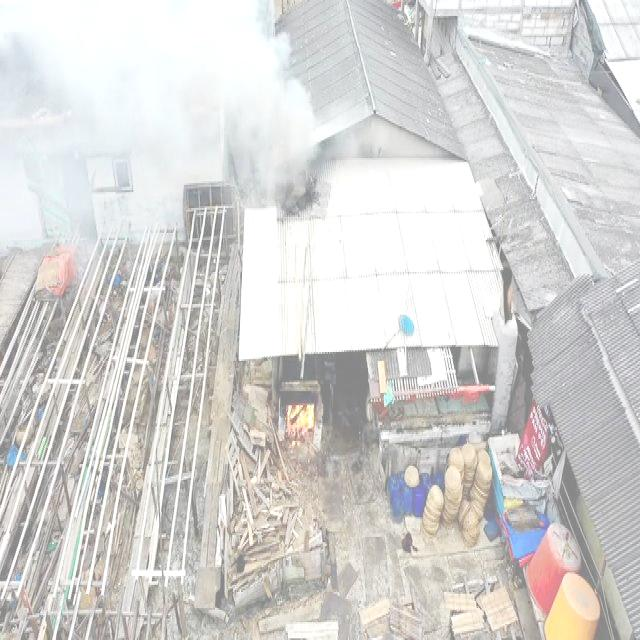smoke: (164, 1, 270, 171), (82, 0, 185, 153), (223, 44, 304, 186), (18, 0, 108, 94), (259, 110, 316, 194)
